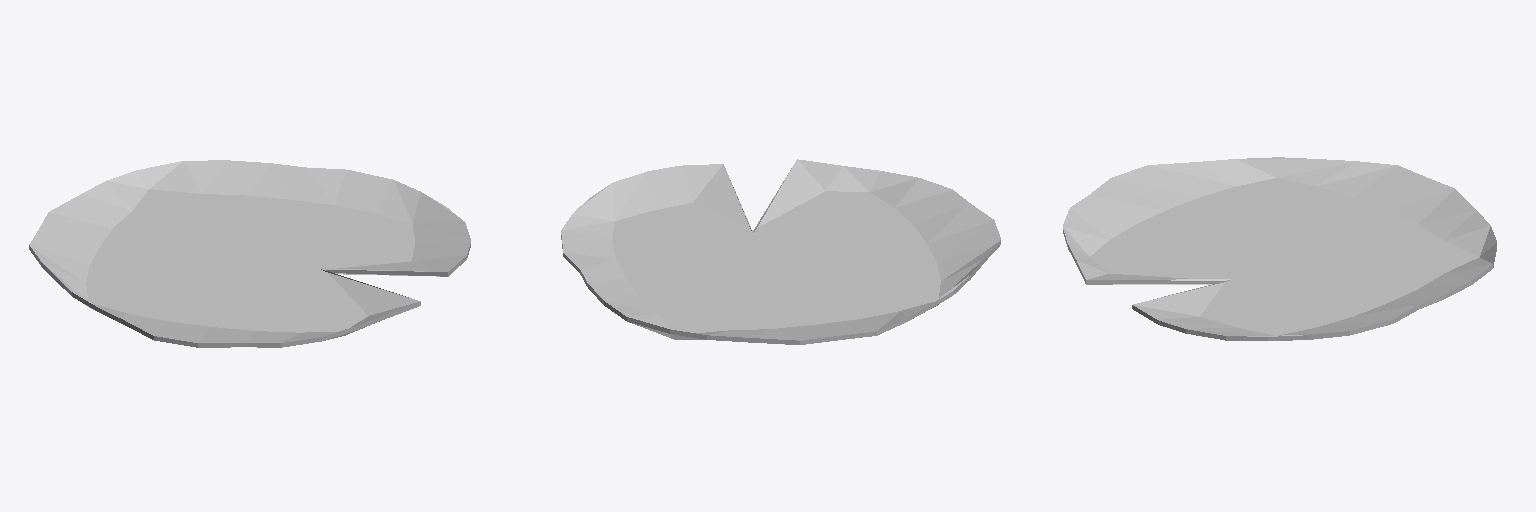
File: small_lilly_pad.obj
3 renders of one model, left to right at view 1: azimuth 30°, elevation 25°; view 2: azimuth 150°, elevation 25°; view 3: azimuth 270°, elevation 25°, orthographic.
Parts seen in each view (by area): view 1: Obj_000005; view 2: Obj_000005; view 3: Obj_000005.
Boxes of the visible parts, box(x1,y1,x2,y2) form: Obj_000005: box(29, 160, 470, 347); Obj_000005: box(561, 159, 1000, 344); Obj_000005: box(1063, 157, 1496, 340).
Bounding box in the file's own units: 40.58 × 1.91 × 41.51.